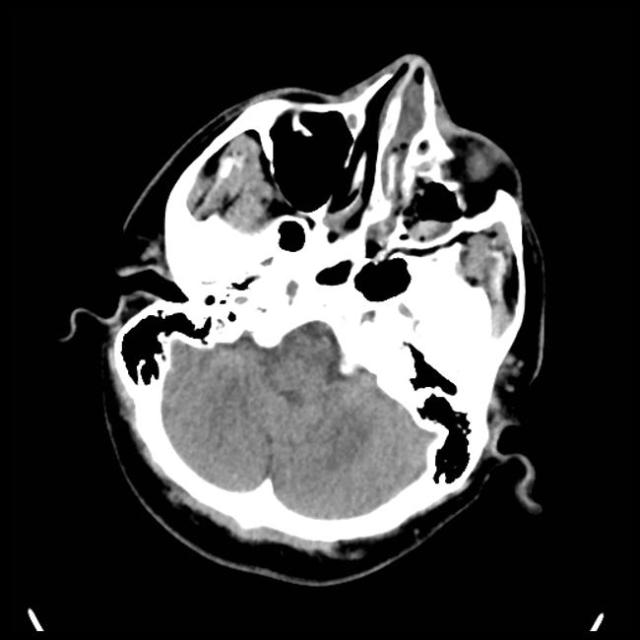lesion: (71, 50, 551, 583)
